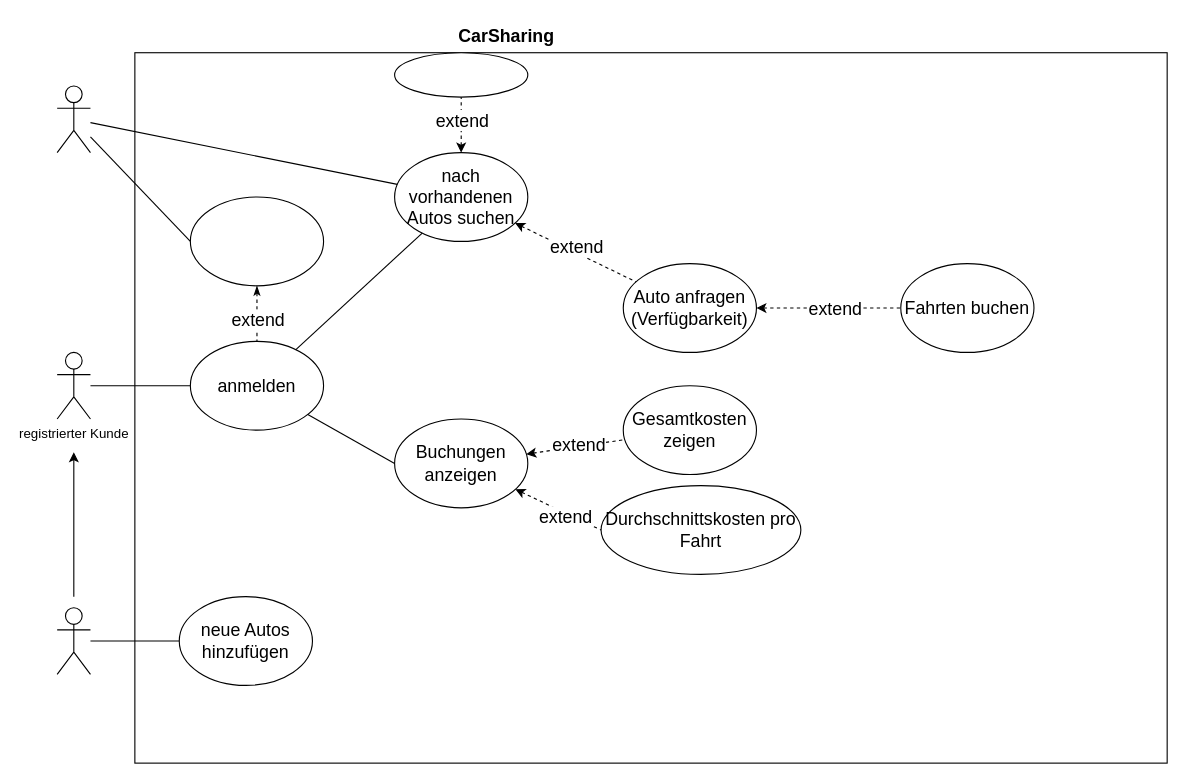
Image size: 1187x783. Some labels were removed from this diagram. Here are the shapes that lost their labels. From the top down, the box of each, then its label:
(393, 52, 528, 97): Antrieb wählen
(56, 85, 90, 153): Kunde
(189, 196, 324, 286): registrieren
(56, 607, 90, 674): Administrator
